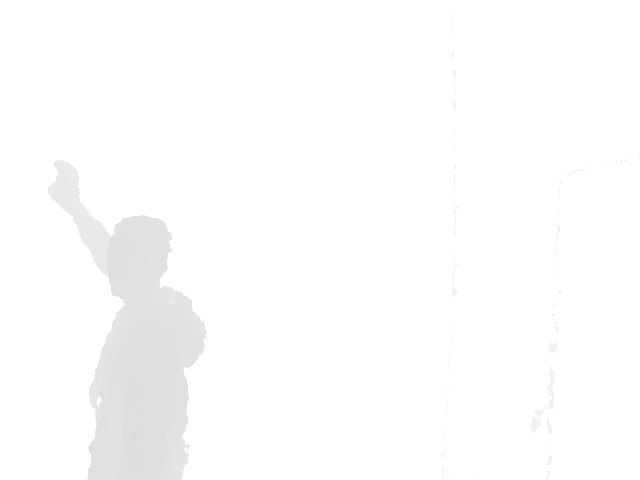hand: (47, 158, 86, 207)
head: (106, 213, 174, 299)
person: (47, 159, 208, 479)
